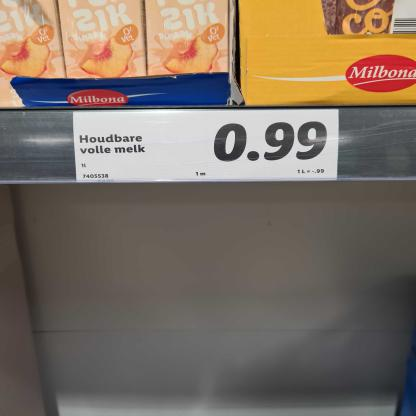prtg: (75, 110, 340, 183)
